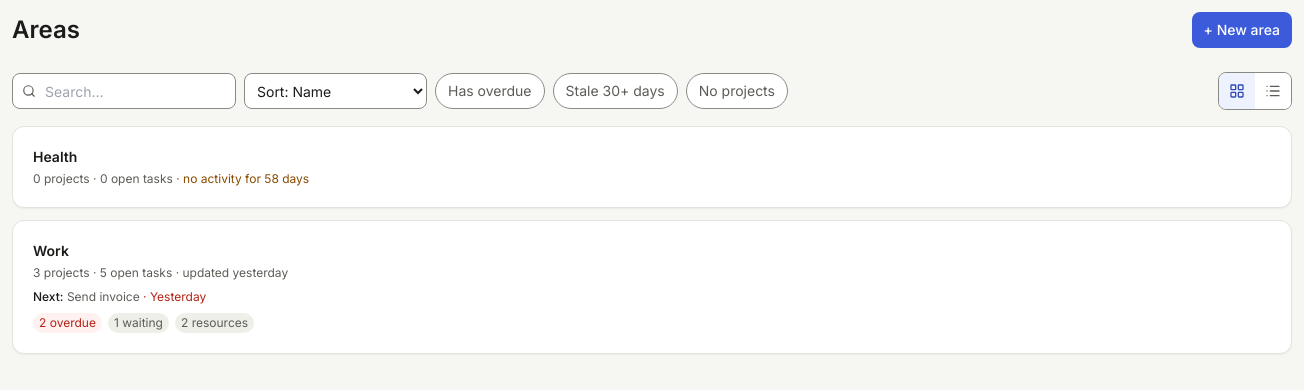
Test: AreasPage › sort and filters go to the URL and are read back from it
The width and height of the screenshot is (1304, 390).
Expected: the heading "Work" is shown, x1=33 y1=242 x2=69 y2=259
Select "Sort: Most overdue" in the dropdown named "Sort by" at (336, 91), box x1=244 y1=73 x2=427 y2=109
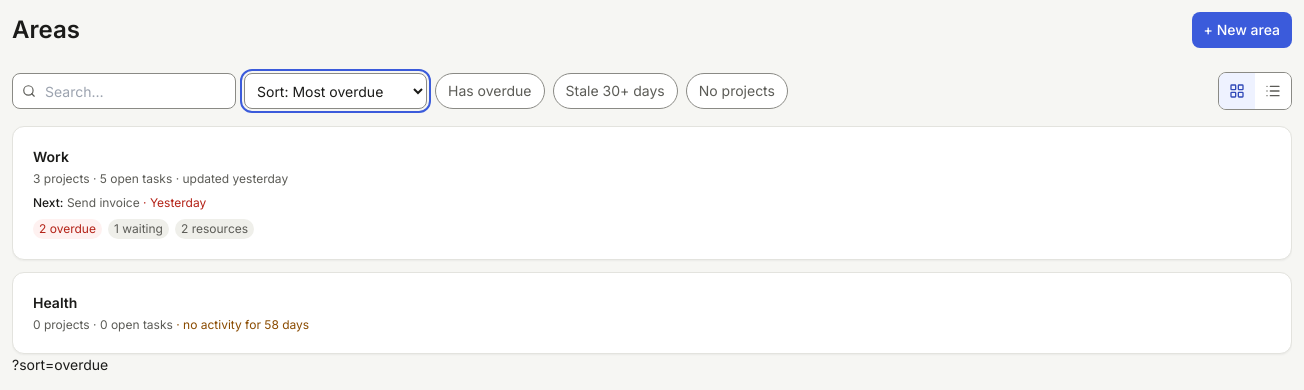
Now the text with test id "search" reads "?sort=overdue", box x1=12 y1=356 x2=108 y2=373
Click the button "Stale 30+ days" at (615, 91), box x1=552 y1=73 x2=678 y2=109
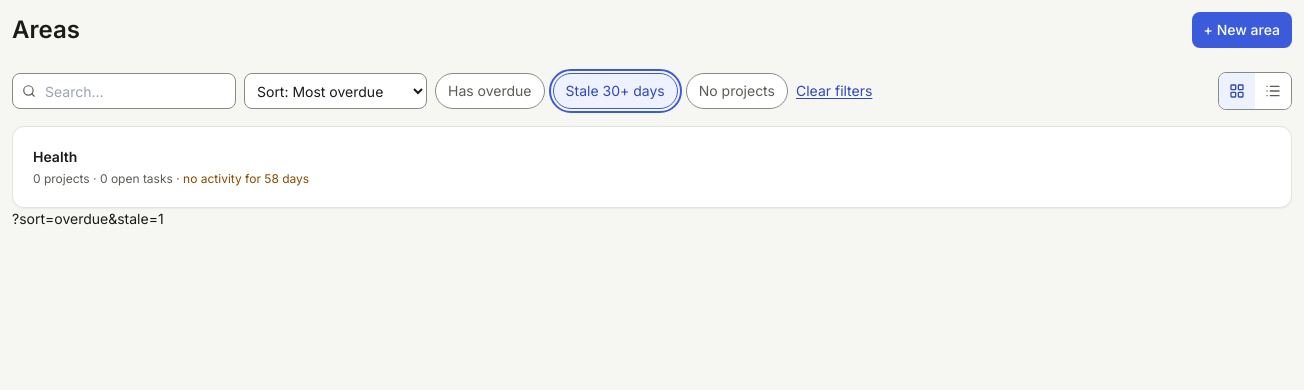
Now the text with test id "search" shows "stale=1", box x1=12 y1=210 x2=164 y2=227
